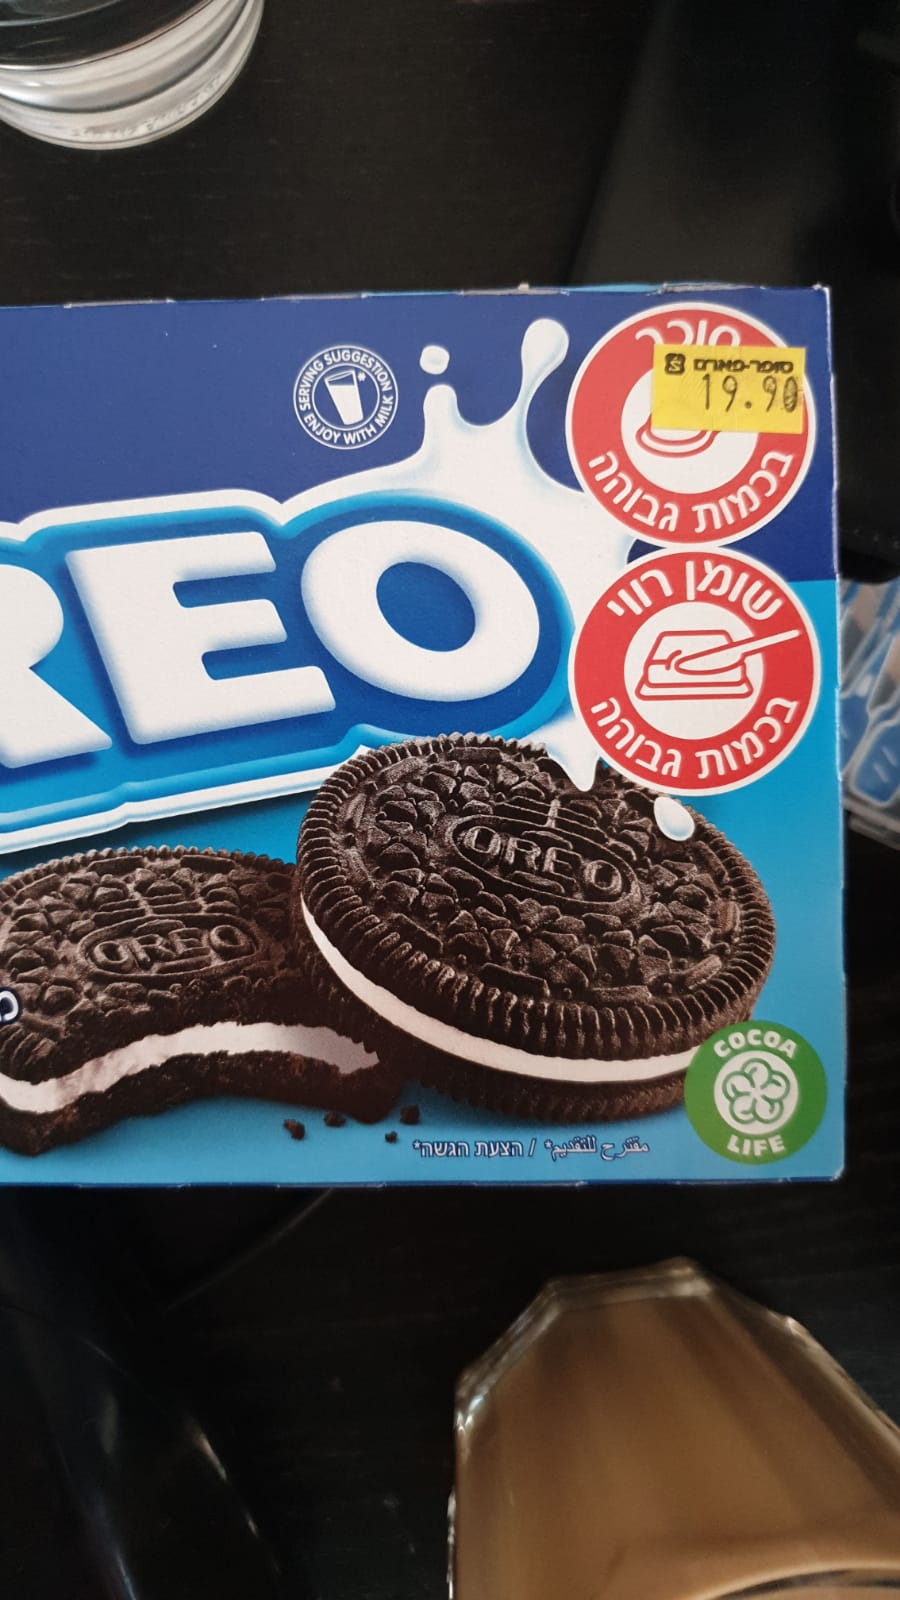fat: (571, 546, 819, 795)
sugar: (564, 303, 816, 548)
